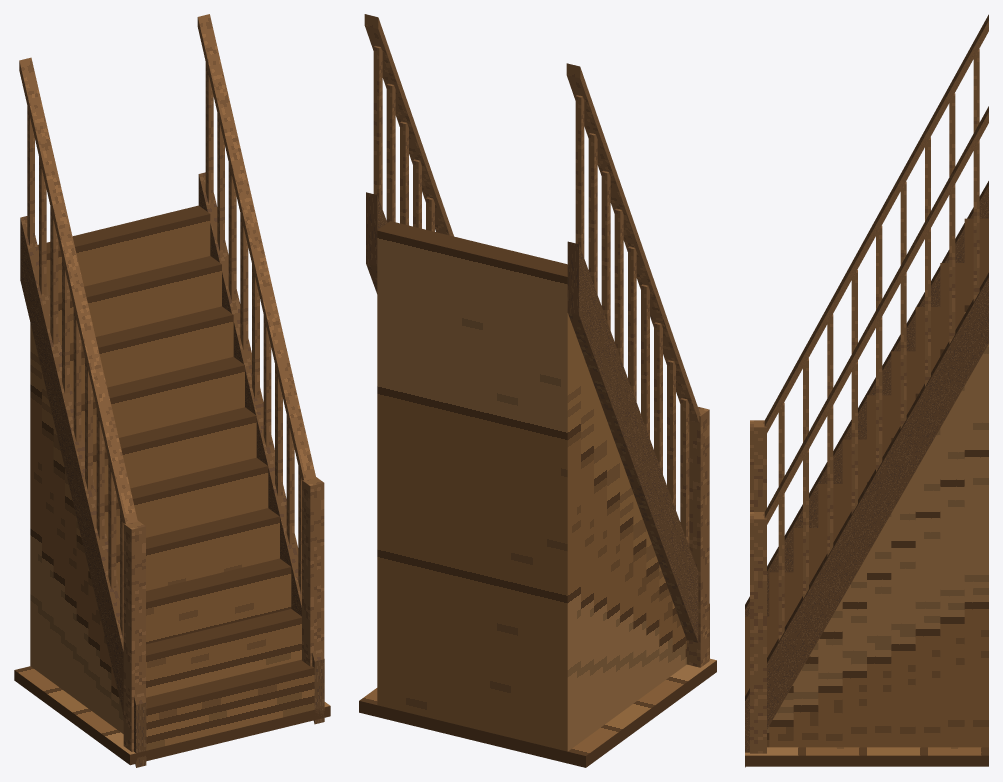
Rendered from t_stairs_up.glb.
3 renders of one model, left to right at view 1: azimuth 30°, elevation 25°; view 2: azimuth 150°, elevation 25°; view 3: azimuth 270°, elevation 25°, orthographic. The views are drawn at different scales.
Parts seen in each view (by area): view 1: block_step9, block_step8, block_step7, block_stringer-1, block_step6, block_step5, block_step0, block_step4, block_step1, block_step2, block_step3, block_handrail-1 (+21 smaller); view 2: block_step9, block_stringer-1, block_tile, block_step8, block_handrail-1, block_newel-1, block_step7, block_step6, block_step5, block_handrail1, block_step4, block_step3 (+16 smaller); view 3: block_stringer1, block_step9, block_step8, block_step7, block_step6, block_step5, block_step4, block_tile, block_stringer-1, block_step3, block_handrail-1, block_handrail1 (+23 smaller).
Part boxes in pixels (x1,y1,x2,y2): block_step9: (30,205,210,674); block_step8: (42,256,221,682); block_step7: (53,306,233,690); block_stringer-1: (20,216,146,767); block_step6: (65,357,244,699); block_step5: (76,407,256,707); block_step0: (146,659,314,750); block_step4: (88,457,268,716); block_step1: (123,609,301,733); block_step2: (111,558,291,733); block_step3: (100,508,279,724); block_handrail-1: (19,57,137,524); block_step9: (377,221,580,751); block_stringer-1: (567,241,709,658); block_tile: (359,658,716,767); block_step8: (581,349,593,741); block_handrail-1: (566,63,700,422); block_newel-1: (687,407,709,667); block_step7: (594,385,606,731); block_step6: (607,421,619,722); block_step5: (620,457,633,712); block_handrail1: (364,14,453,236); block_step4: (633,493,646,703); block_step3: (646,529,659,693); block_stringer1: (745,272,988,767); block_step9: (964,218,988,747); block_step8: (940,263,964,747); block_step7: (915,307,940,747); block_step6: (891,351,915,747); block_step5: (867,395,891,747); block_step4: (842,439,866,747); block_tile: (745,747,988,766); block_stringer-1: (745,181,988,616); block_step3: (818,484,842,747); block_handrail-1: (764,14,988,432); block_handrail1: (764,106,988,524).
Size of the model in its own units: 1 by 2.97 by 1.
Materials: 1 (1 with a texture image).
